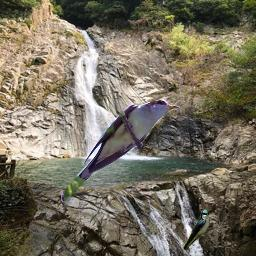Cuckoo: (61, 99, 180, 202)
Swallow: (182, 209, 210, 252)
